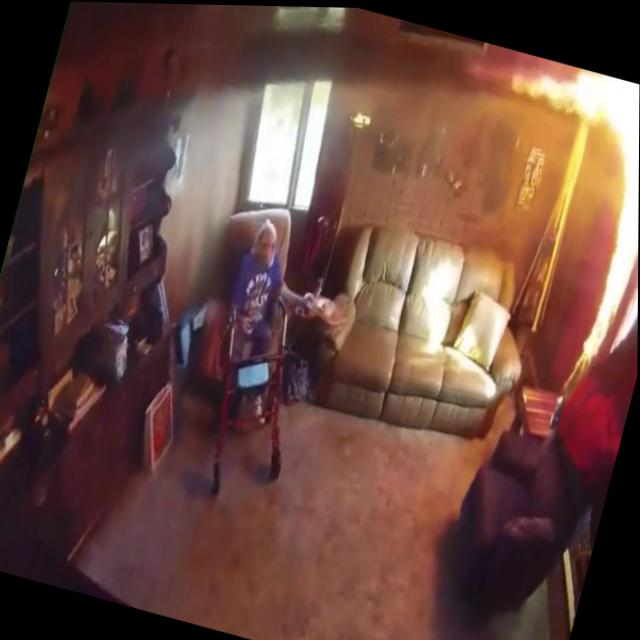fire: (580, 86, 640, 364), (504, 52, 640, 153)
